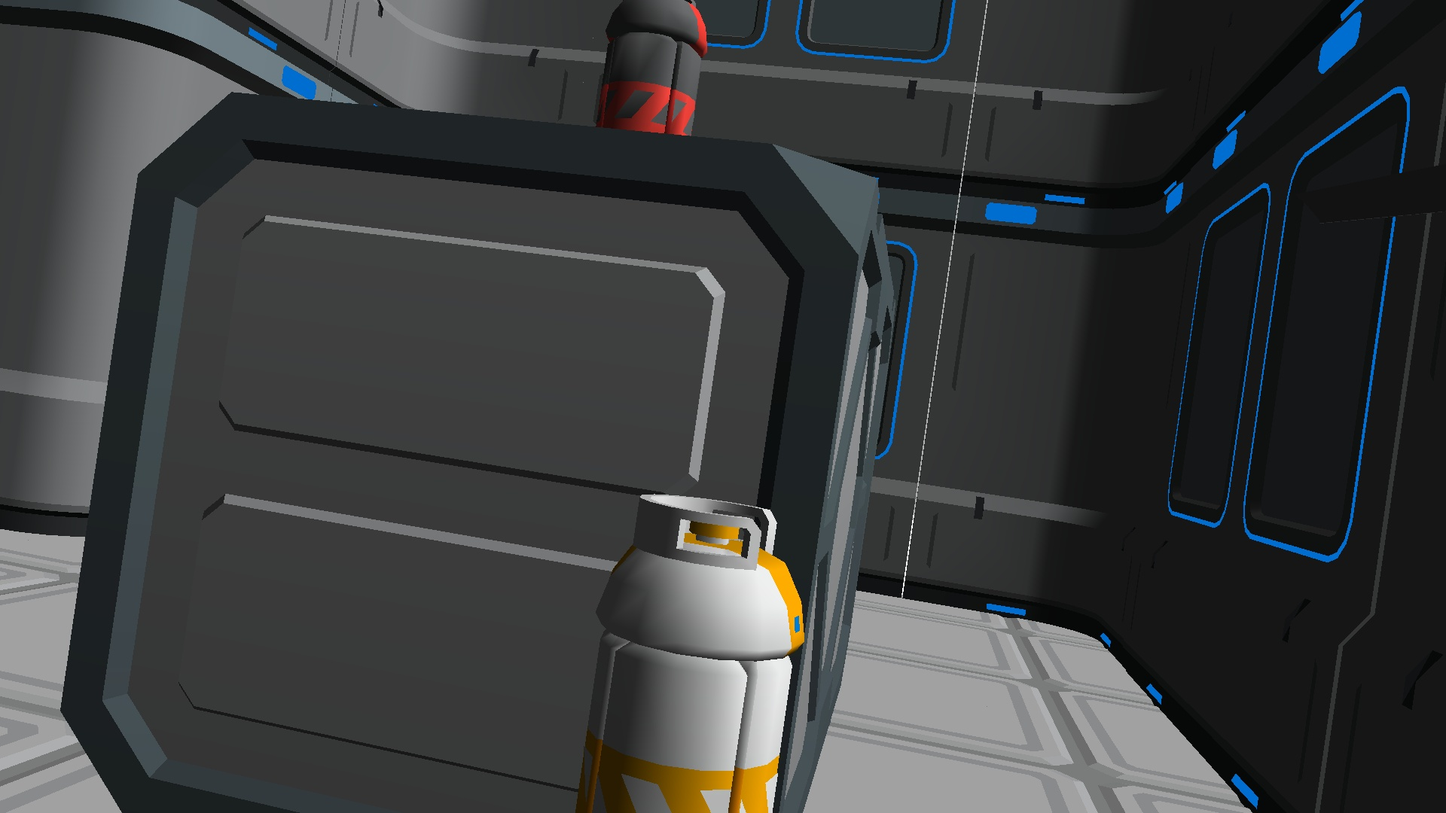red barrel: (596, 0, 708, 135)
yellow barrel: (576, 494, 806, 813)
